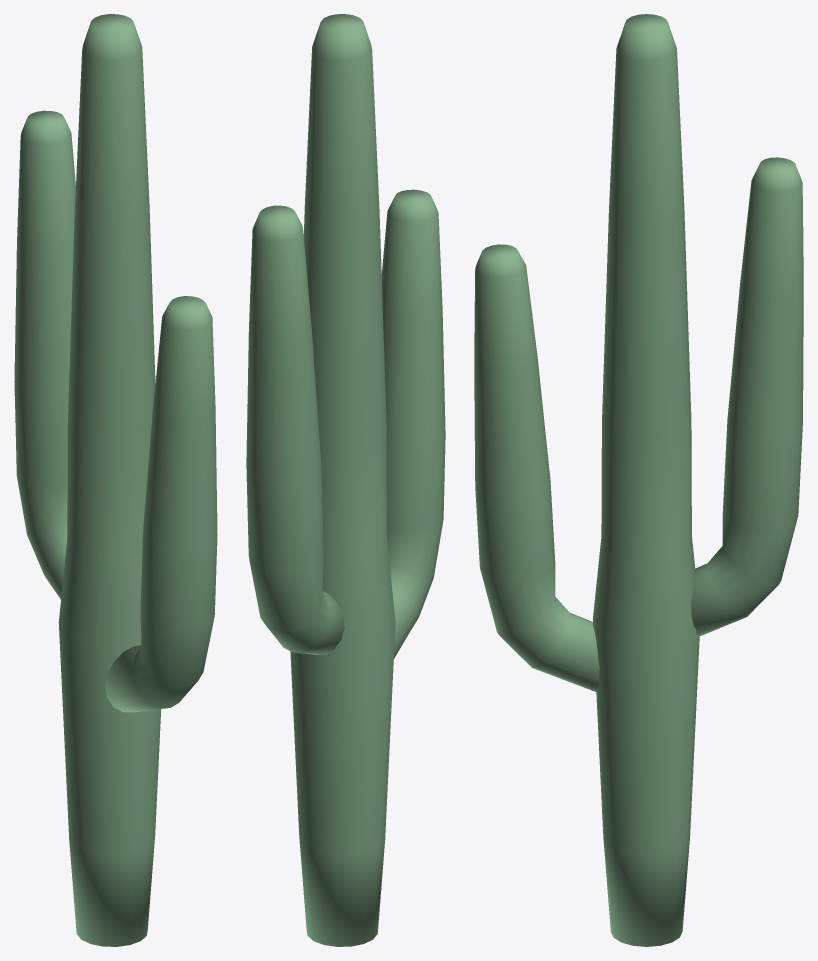
File: cactus_01.glb
3 renders of one model, left to right at view 1: azimuth 30°, elevation 25°; view 2: azimuth 150°, elevation 25°; view 3: azimuth 270°, elevation 25°, orthographic.
Parts seen in each view (by area): view 1: Cactus; view 2: Cactus; view 3: Cactus.
Boxes of the visible parts, x1,y1,x2,y2 form: Cactus: [14, 14, 217, 946]; Cactus: [246, 14, 445, 946]; Cactus: [474, 14, 803, 946].
Bounding box in the file's own units: 0.6991 × 6.51 × 2.14.
